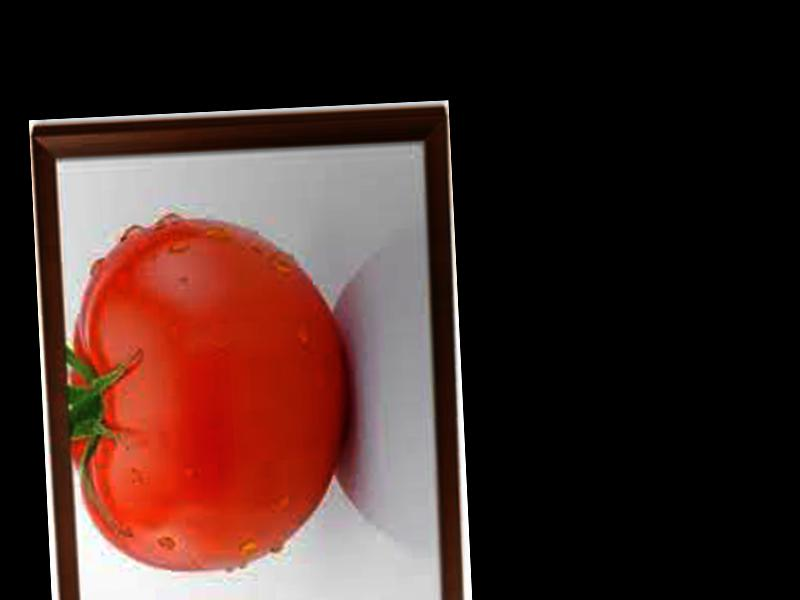Tomato: (57, 211, 356, 576)
